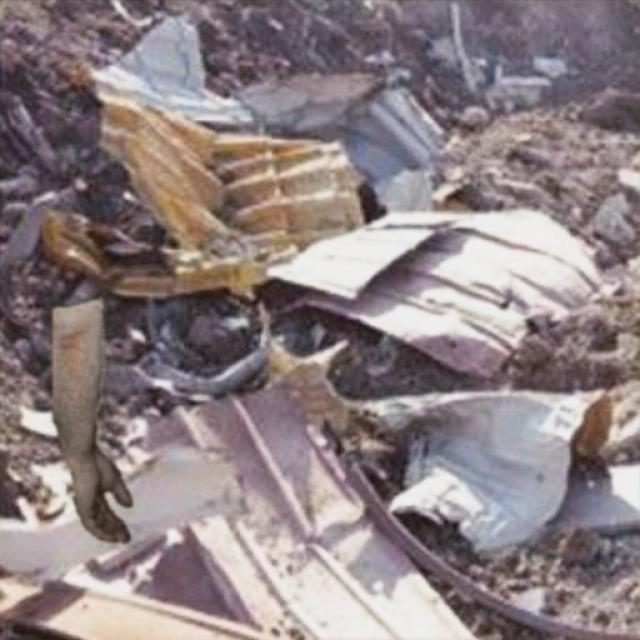Person in Rubble: (52, 298, 132, 542)
